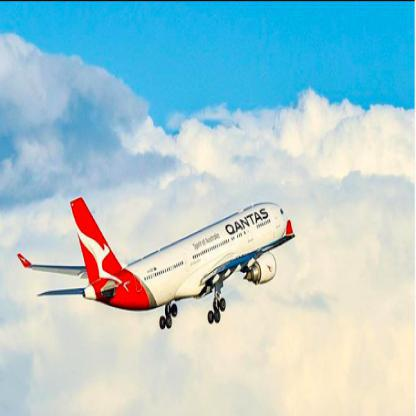CIV_Plane: (14, 186, 296, 342)
